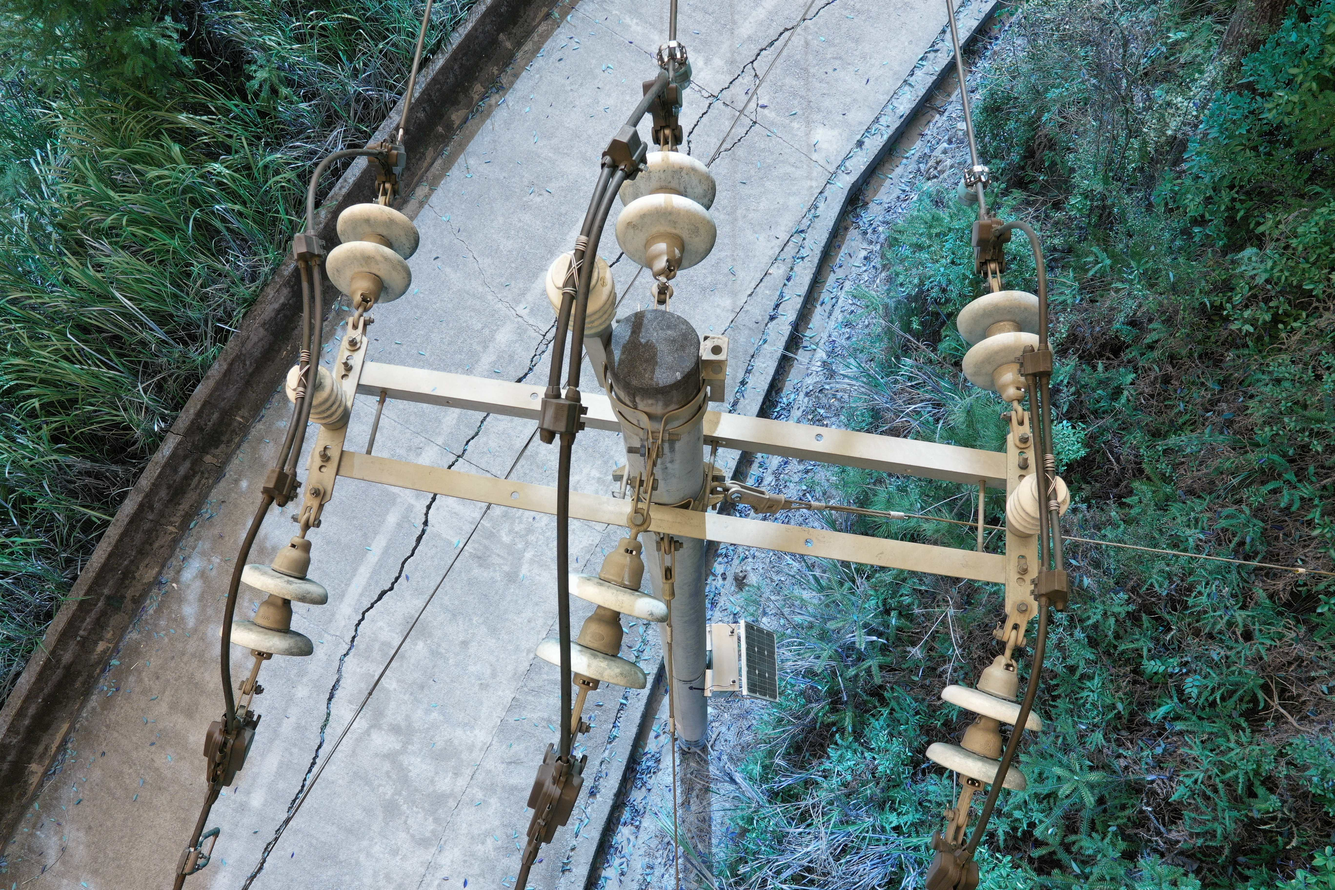severe_soiling_no_discharge_whole: (529, 529, 668, 692), (922, 651, 1042, 793), (214, 534, 331, 657), (614, 149, 719, 284), (323, 199, 425, 312), (958, 287, 1049, 403), (287, 359, 354, 432)
